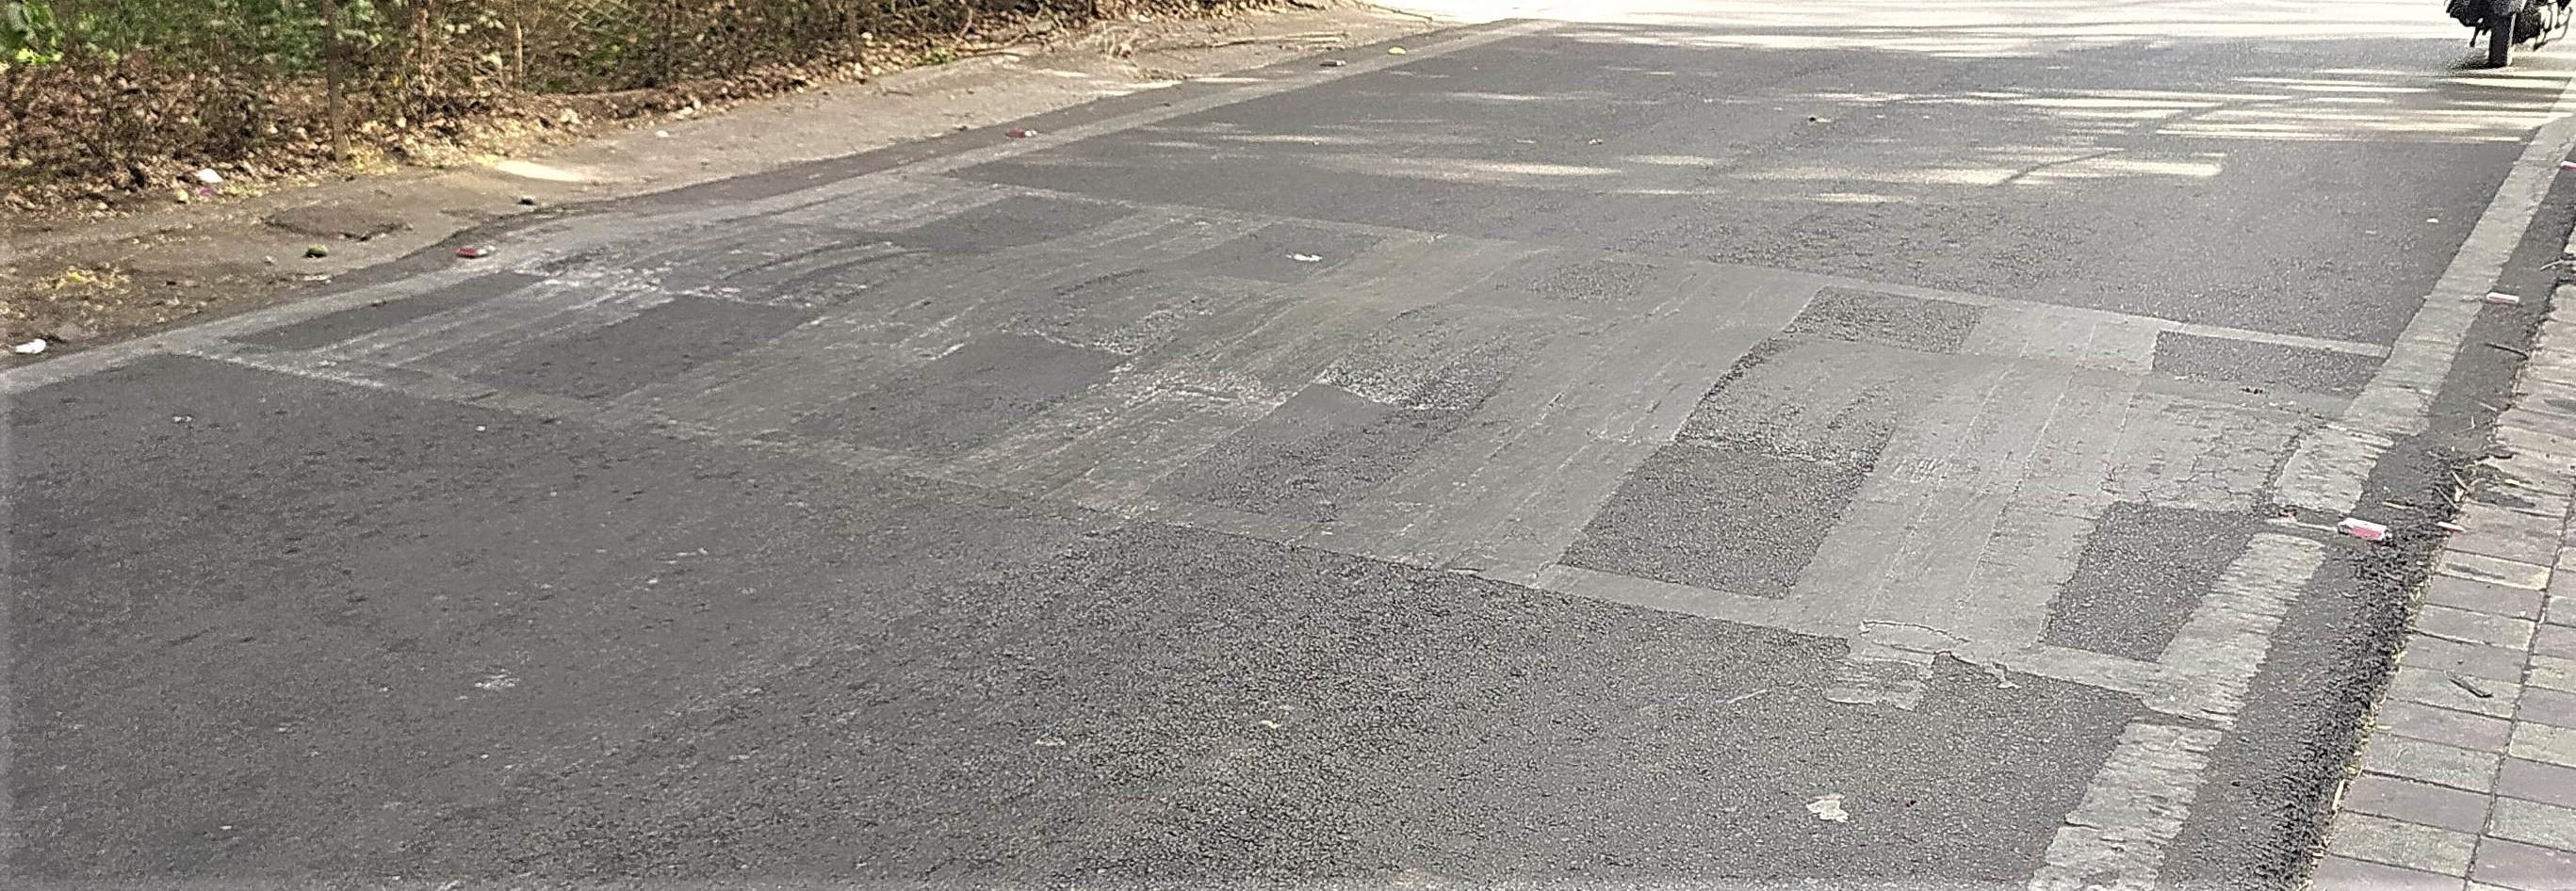speed-bump: (171, 164, 2466, 779)
